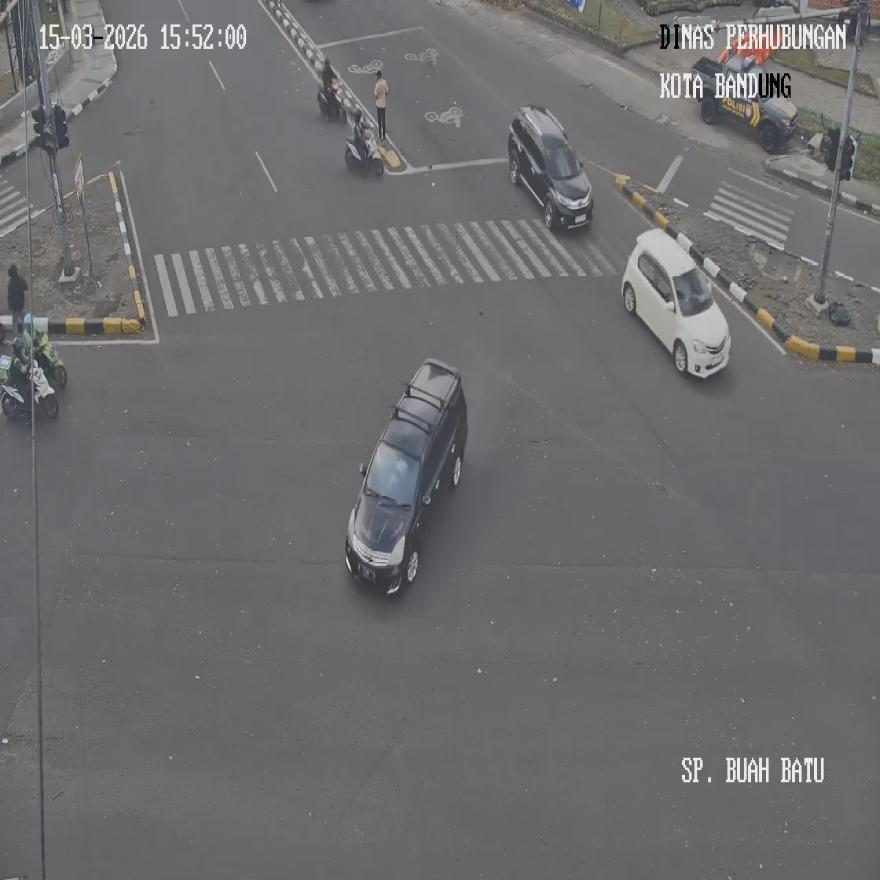Mobil: (344, 358, 468, 592), (621, 228, 731, 378), (691, 48, 799, 152), (507, 104, 594, 230)
Motor: (0, 355, 58, 421), (345, 123, 383, 176), (32, 334, 66, 391), (317, 77, 344, 120)
